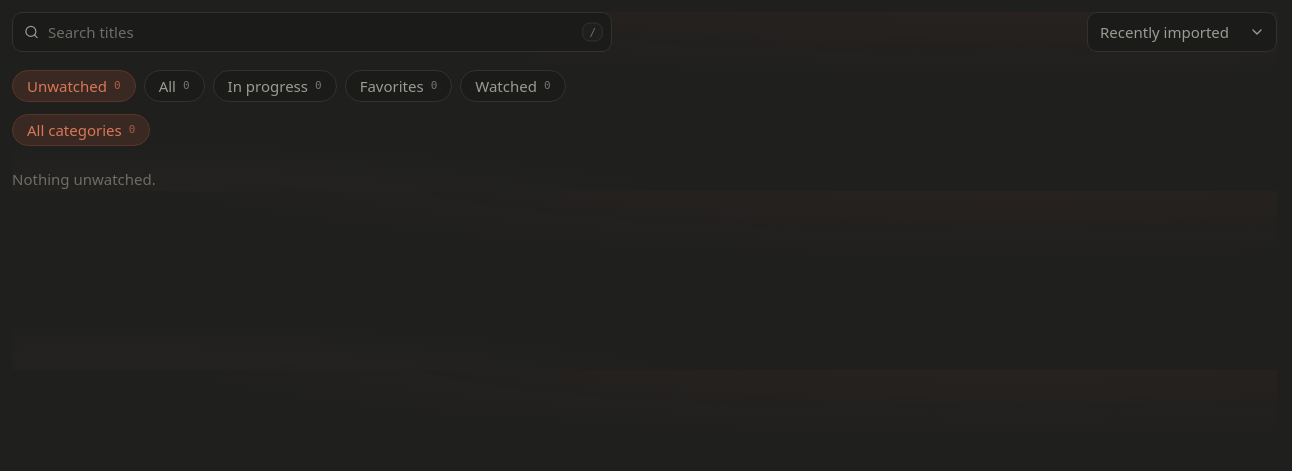
Test: Library category chips › selecting In progress refetches with the in_progress filter
Click the button "In progress 0".
click(275, 86)  # box [213,70,337,102]
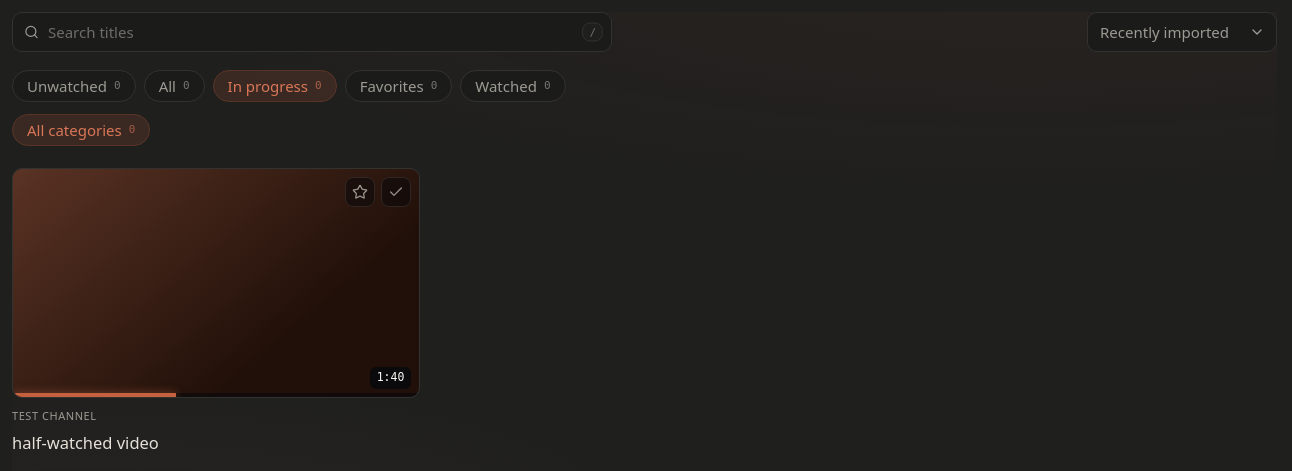
Expected: the button "half-watched video" is shown, [12,431,159,454]
